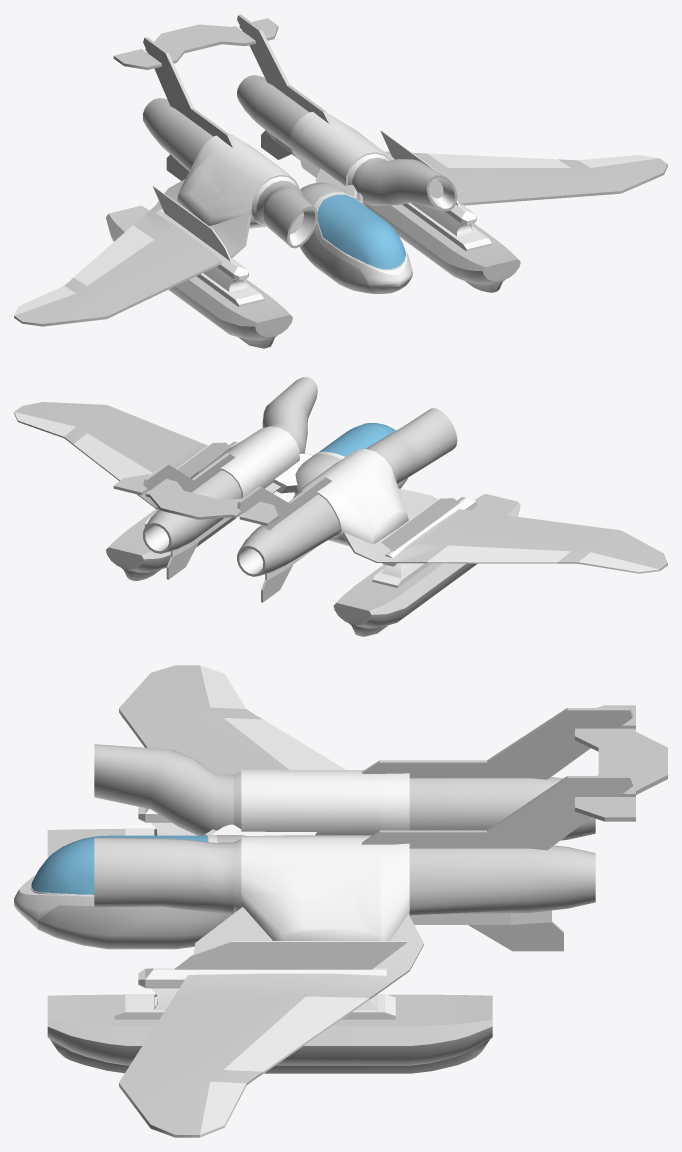
3 renders of one model, top to bottom at view 1: azimuth 30°, elevation 25°; view 2: azimuth 150°, elevation 25°; view 3: azimuth 270°, elevation 25°, orthographic. The views are drawn at different scales.
Parts seen in each view (by area): view 1: SC-1Body, Canopy, SC-1Cabin, Elevator, FlapR, FlapL, CabinBraceL, AileronR, AileronL, VtolVentDoorR; view 2: SC-1Body, Elevator, FlapR, FlapL, Canopy, SC-1Cabin, AileronR, CabinBraceL, AileronL, RudderHolders, VtolVentDoorR, RudderL (+1 smaller); view 3: SC-1Body, SC-1Cabin, Elevator, FlapL, Canopy, FlapR, RudderL, VtolVentDoorL, RudderHolders, AileronL, AileronR.
Boxes of the visible parts, left/top/right/bottom form: SC-1Body: left=14, top=14, right=667, bottom=348; Canopy: left=317, top=194, right=406, bottom=270; SC-1Cabin: left=300, top=182, right=412, bottom=293; Elevator: left=113, top=18, right=278, bottom=69; FlapR: left=74, top=225, right=153, bottom=285; FlapL: left=427, top=153, right=570, bottom=167; CabinBraceL: left=299, top=154, right=362, bottom=202; AileronR: left=14, top=286, right=75, bottom=315; AileronL: left=579, top=155, right=658, bottom=167; VtolVentDoorR: left=190, top=177, right=220, bottom=206; SC-1Body: left=14, top=377, right=667, bottom=636; Elevator: left=113, top=474, right=278, bottom=526; FlapR: left=427, top=545, right=570, bottom=563; FlapL: left=73, top=433, right=152, bottom=481; Canopy: left=318, top=423, right=395, bottom=456; SC-1Cabin: left=294, top=451, right=407, bottom=494; AileronR: left=578, top=552, right=659, bottom=573; CabinBraceL: left=265, top=453, right=313, bottom=493; AileronL: left=14, top=412, right=75, bottom=437; RudderHolders: left=170, top=517, right=317, bottom=579; VtolVentDoorR: left=364, top=495, right=395, bottom=524; RudderL: left=166, top=542, right=198, bottom=579; SC-1Body: left=47, top=665, right=633, bottom=1137; SC-1Cabin: left=14, top=835, right=246, bottom=949; Elevator: left=575, top=705, right=667, bottom=821; FlapL: left=224, top=996, right=369, bottom=1073; Canopy: left=30, top=835, right=209, bottom=895; FlapR: left=223, top=717, right=345, bottom=769; RudderL: left=468, top=921, right=563, bottom=951; VtolVentDoorL: left=304, top=898, right=357, bottom=928; RudderHolders: left=409, top=910, right=551, bottom=924; AileronL: left=200, top=1081, right=246, bottom=1137; AileronR: left=200, top=665, right=246, bottom=709.
Size of the model in its own units: 25.01 by 6.13 by 14.72.
